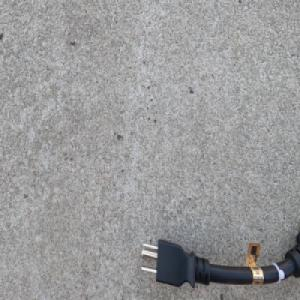Wire: (138, 227, 300, 291)
